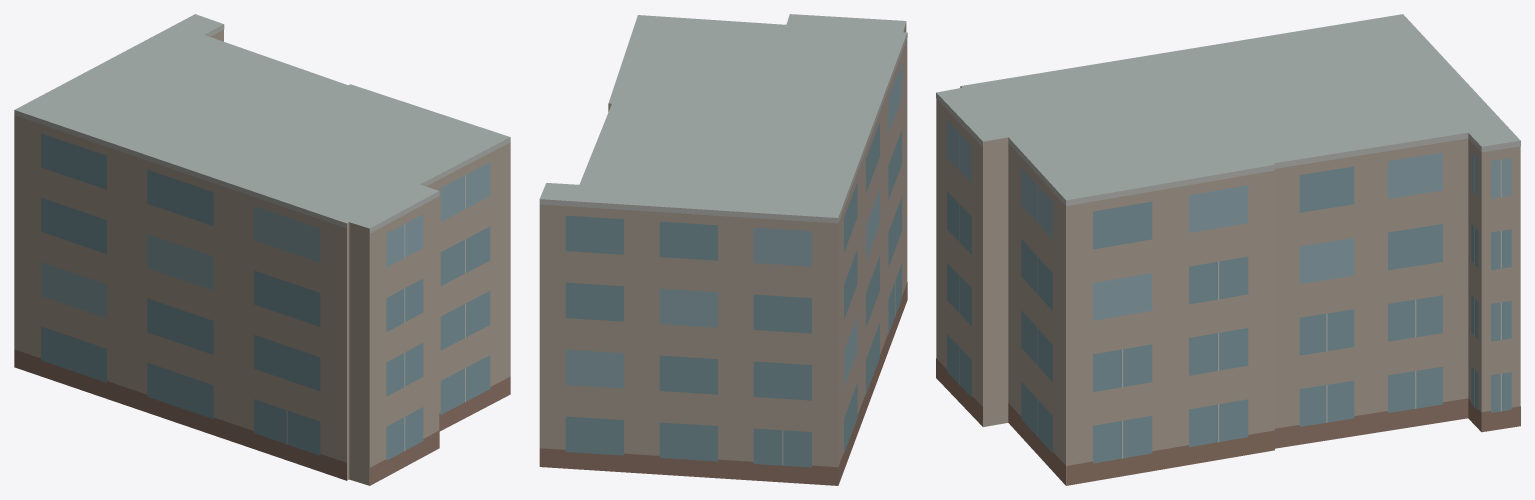
Rendered from survey-upis-32584819.glb.
3 renders of one model, left to right at view 1: azimuth 30°, elevation 25°; view 2: azimuth 150°, elevation 25°; view 3: azimuth 270°, elevation 25°, orthographic. The views are drawn at different scales.
Visible parts, largest first — view 1: survey-upis-32584819.tmp; view 2: survey-upis-32584819.tmp; view 3: survey-upis-32584819.tmp.
Part boxes in pixels (x1,y1,x2,y2): survey-upis-32584819.tmp: (14,14,510,485); survey-upis-32584819.tmp: (539,14,907,485); survey-upis-32584819.tmp: (936,14,1520,485).
Bounding box in the file's own units: 17.1 × 12.2 × 22.65.
